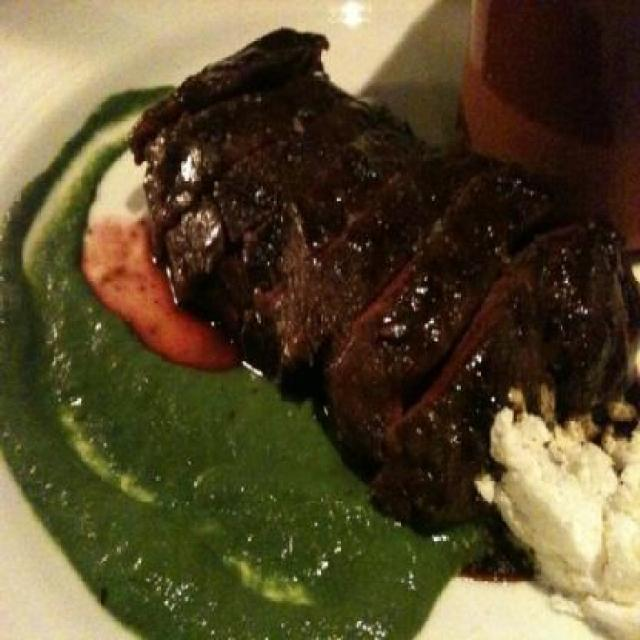Steak: (150, 53, 626, 507)
